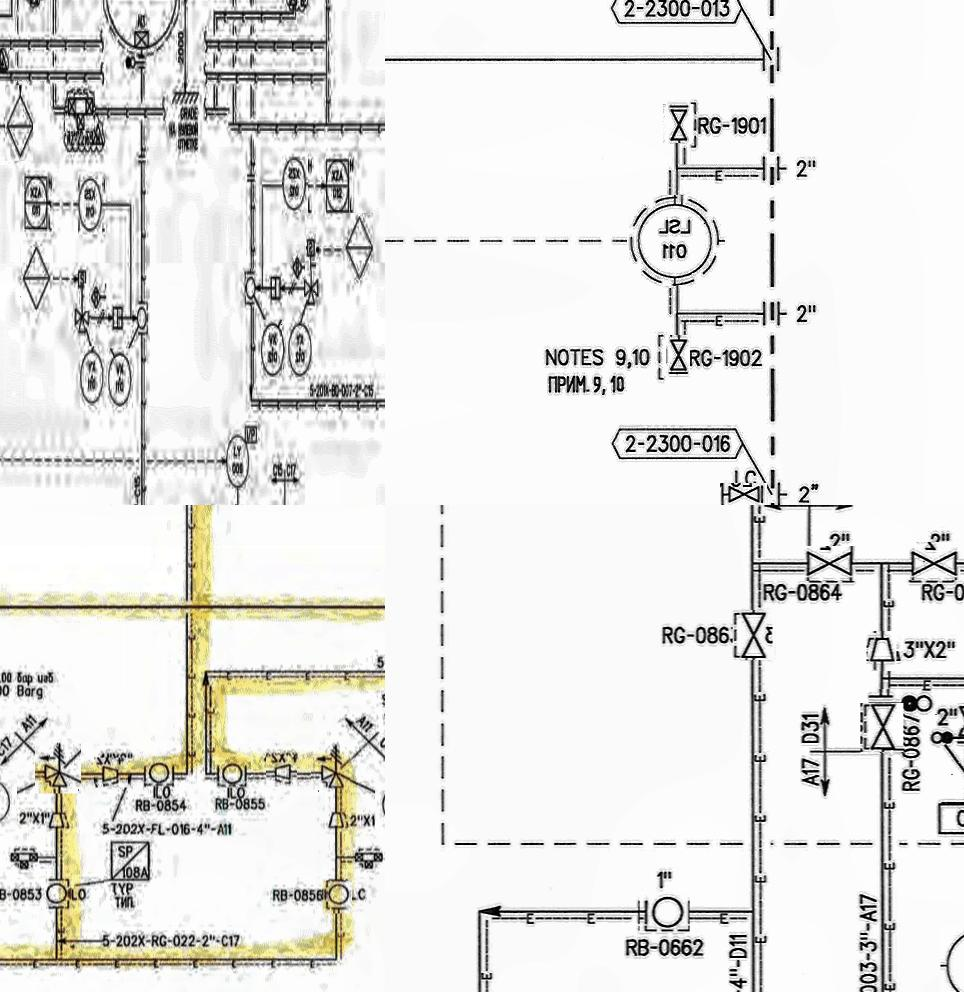2 WAY VALVE: (65, 91, 95, 138), (341, 845, 385, 874)
3 WAY GENERAL VALVE: (302, 271, 321, 309), (74, 297, 91, 339)
ANGLE RELIEF VALVE: (35, 739, 81, 795)
CONCENTRIC REDUCER: (866, 631, 898, 671), (266, 755, 297, 792), (95, 757, 130, 787), (41, 802, 68, 836)
DCS ACCESSIBLE: (105, 832, 160, 893), (21, 170, 50, 236), (324, 153, 351, 219)
DIAPHRAGM ACTUATED VALVE: (312, 740, 350, 801)
END FLANGED: (757, 294, 787, 331), (758, 153, 786, 189)
FIELD INSTRUMENT: (627, 195, 725, 286), (639, 892, 689, 932), (281, 157, 308, 217), (106, 349, 133, 409), (940, 925, 964, 992), (81, 347, 106, 409), (79, 172, 103, 234), (226, 431, 251, 490), (262, 320, 285, 378), (288, 323, 312, 378), (40, 872, 72, 912), (215, 757, 251, 787), (323, 880, 354, 913), (146, 757, 172, 793), (0, 774, 17, 829), (243, 268, 257, 306), (135, 301, 148, 336)
GATE VALVE: (861, 704, 905, 754), (905, 542, 962, 580), (733, 610, 774, 660), (803, 546, 859, 582), (663, 104, 693, 143), (666, 336, 690, 382), (720, 483, 767, 505)
HARDWIRED INTERLOCK FIELD: (85, 283, 107, 311), (290, 256, 310, 279)
IP CONVERTER: (244, 422, 259, 447)
NON-ACCESSABLE HARDWIRED INTERLOCK: (20, 246, 53, 312), (5, 85, 33, 161), (344, 214, 374, 282)
SPECTACLE BLIND CLOSED: (865, 689, 942, 716), (924, 728, 964, 747)
SPECTACLE BLIND OPEN: (122, 52, 150, 78)
SPEED FLOW METER: (75, 264, 89, 297), (306, 230, 316, 273)
TUNDISH OPEN: (942, 747, 964, 803)
